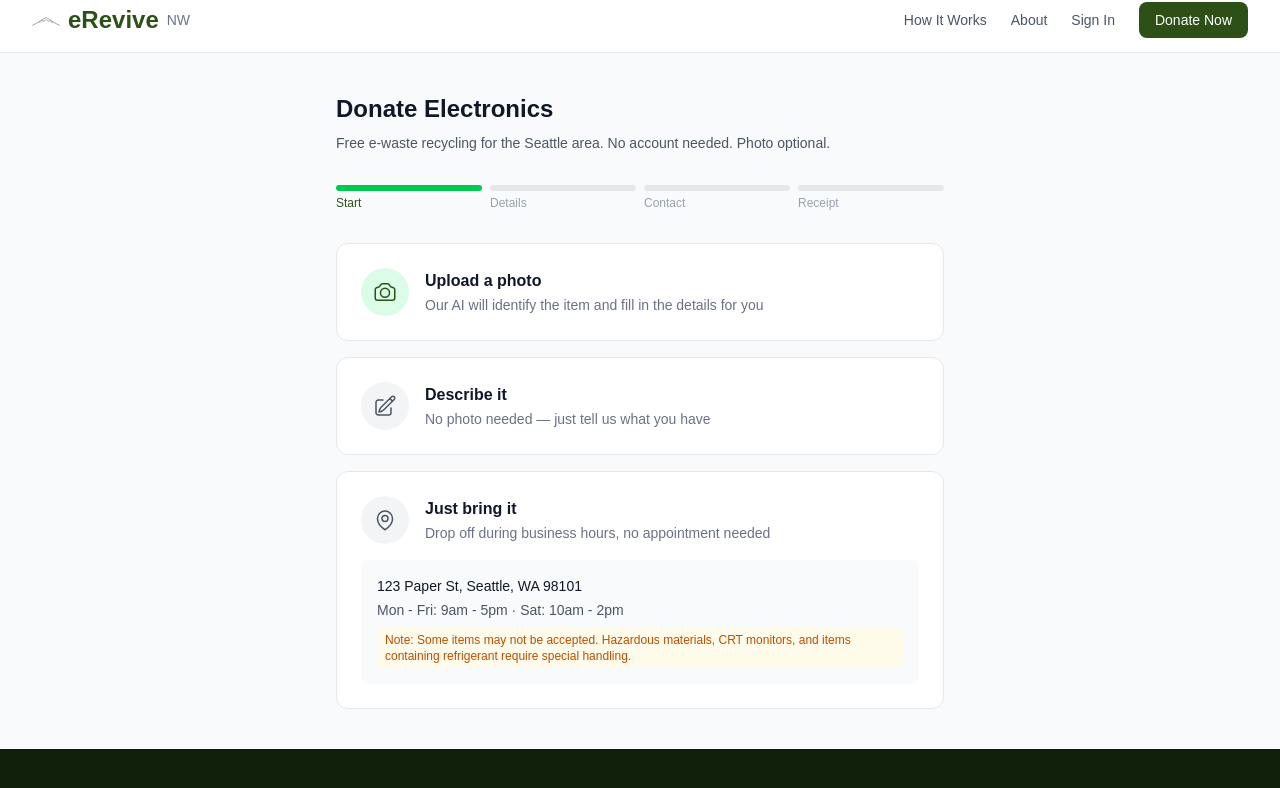
Test: Donate Page (/donate) › Next button disabled until items selected
The width and height of the screenshot is (1280, 788).
Click the heading "Describe it".
click(466, 394)  # box [425,386,507,403]
(page scrolled)
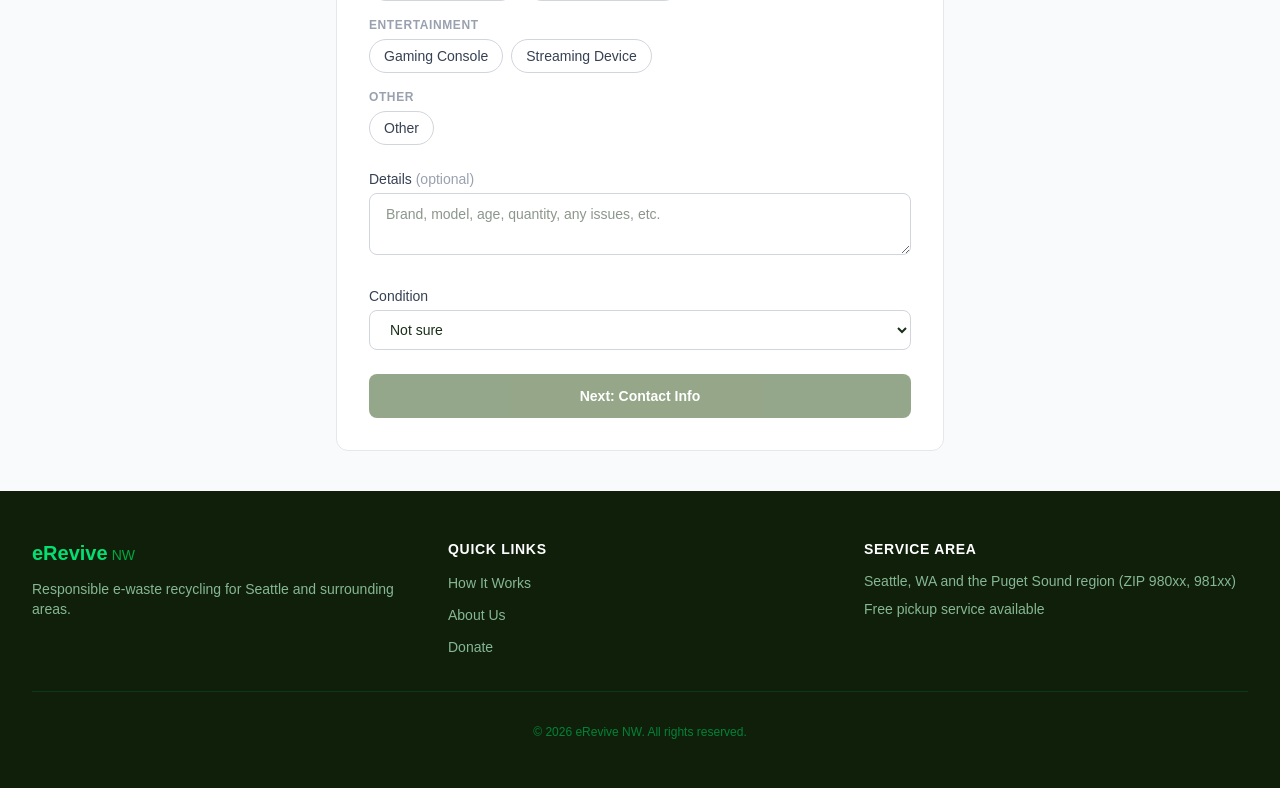
Expected: the button "Next: Contact Info" is disabled, [369,374,911,418]
